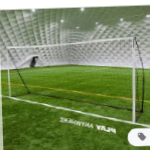goals: (3, 35, 146, 126)
